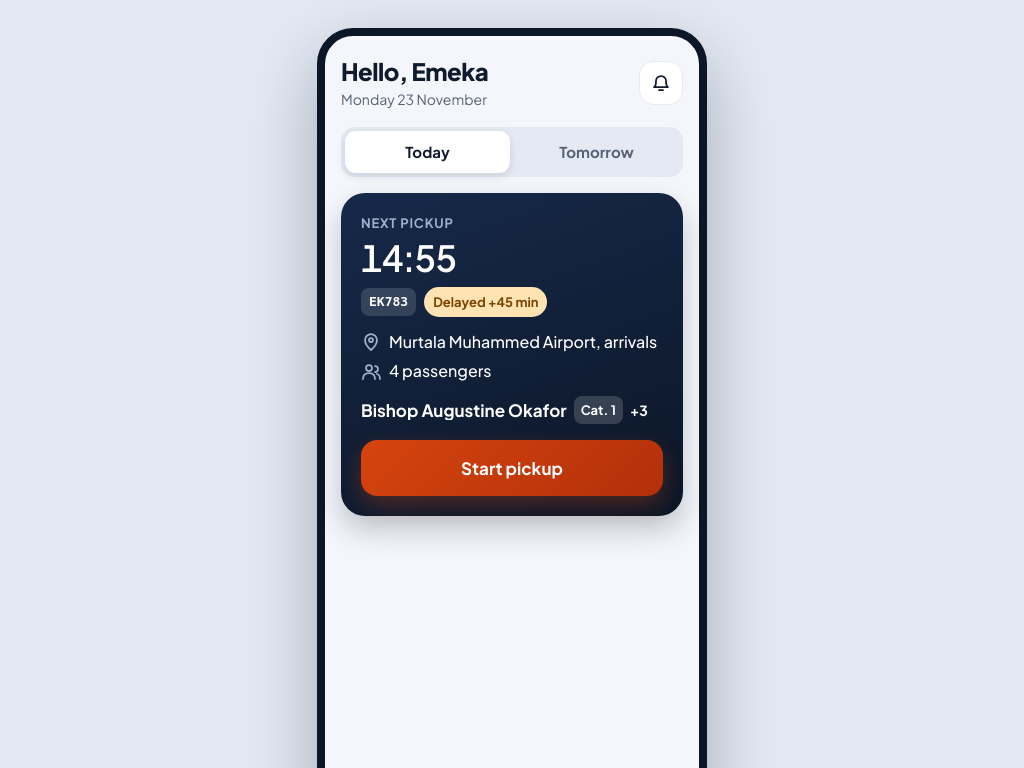
Test: DriverScreen › opens the trip details with passengers
The image size is (1024, 768).
Click the button with aria-label "Details for the 14:55 pickup": (407, 223) [361,213,663,287]
(page scrolled)
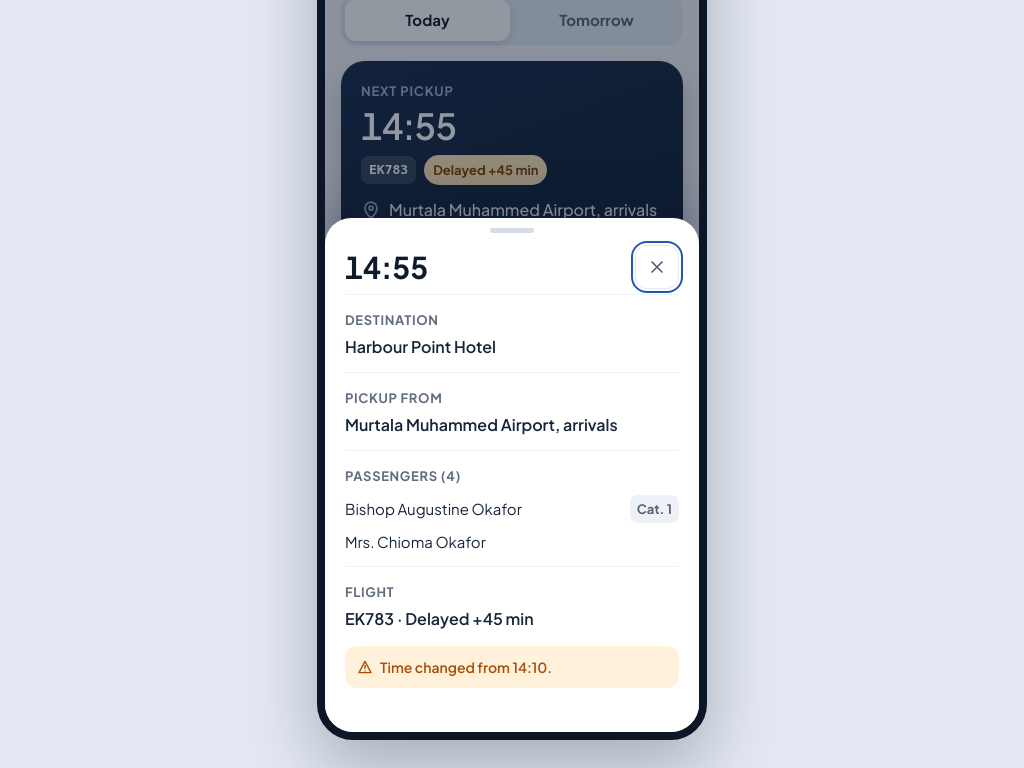
Result: the dialog "14:55" shows "Harbour Point Hotel" at [345,336,496,357]
Result: the dialog "14:55" shows "Mrs. Chioma Okafor" at [345,532,486,551]
Result: the dialog "14:55" shows "EK783 · Delayed +45 min" at [325,218,699,732]
